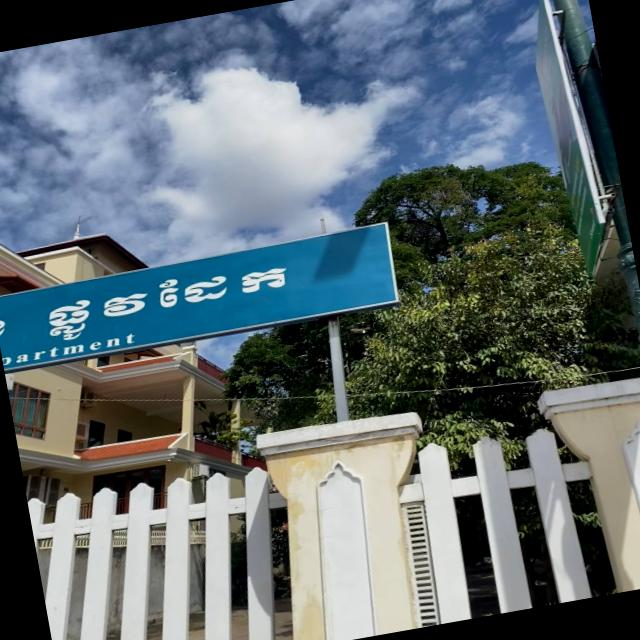Yolov11_80vkh: (39, 254, 300, 348)
